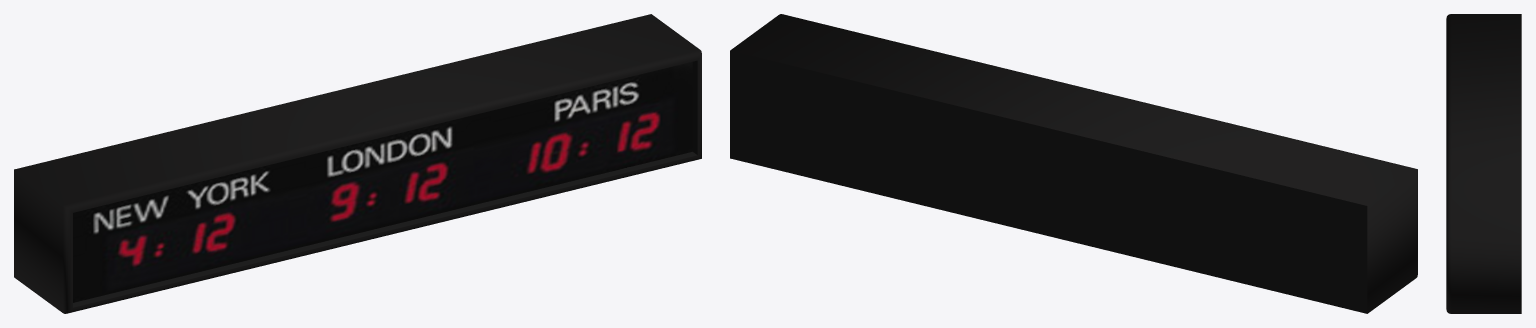
The model's file is Clock.FBX.
3 views of the same model, side by side, from view 1: azimuth 30°, elevation 25°; view 2: azimuth 150°, elevation 25°; view 3: azimuth 270°, elevation 25° (orthographic). The views are drawn at different scales.
Parts seen in each view (by area): view 1: Clock; view 2: Clock; view 3: Clock.
Boxes of the visible parts, x1,y1,x2,y2 form: Clock: [14, 14, 701, 313]; Clock: [730, 14, 1417, 313]; Clock: [1446, 14, 1521, 313].
Bounding box in the file's own units: 100 × 16.26 × 14.33.
1 material, 1 textured.
